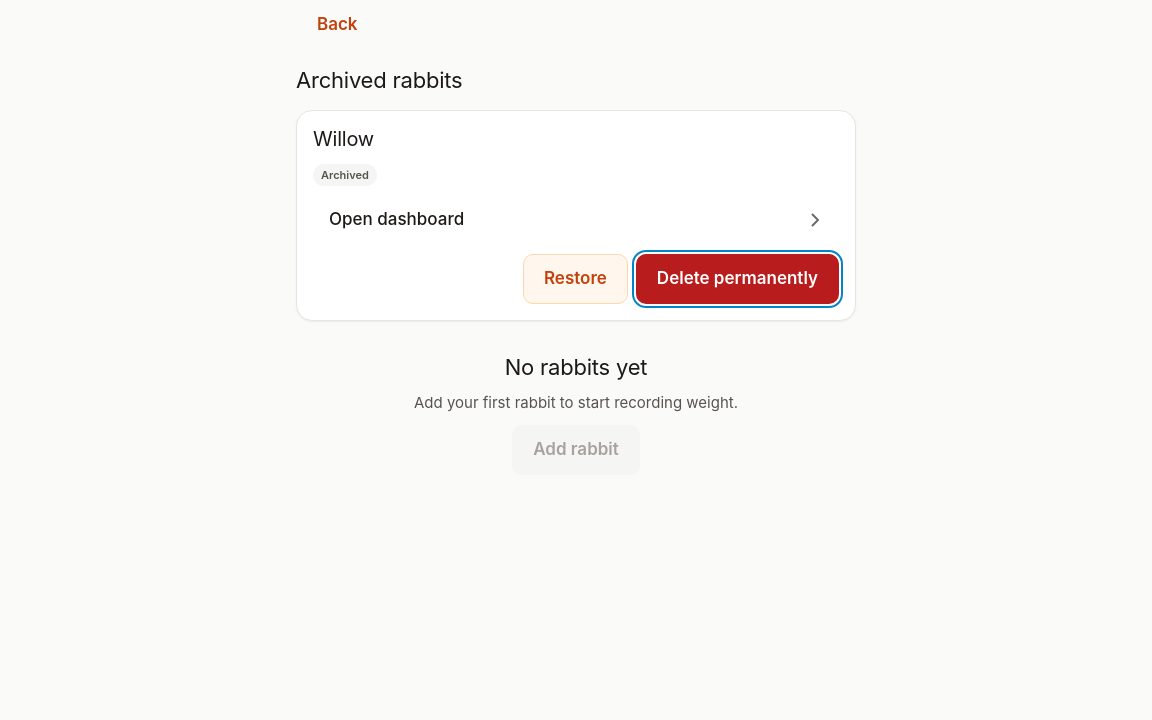
asks for the consequence before deleting anything, and cancelling deletes nothing
Expected: the heading "Willow" is shown, [313,127,374,151]
Click the button "Delete permanently". click: (737, 279)
box: [636,254,839,304]
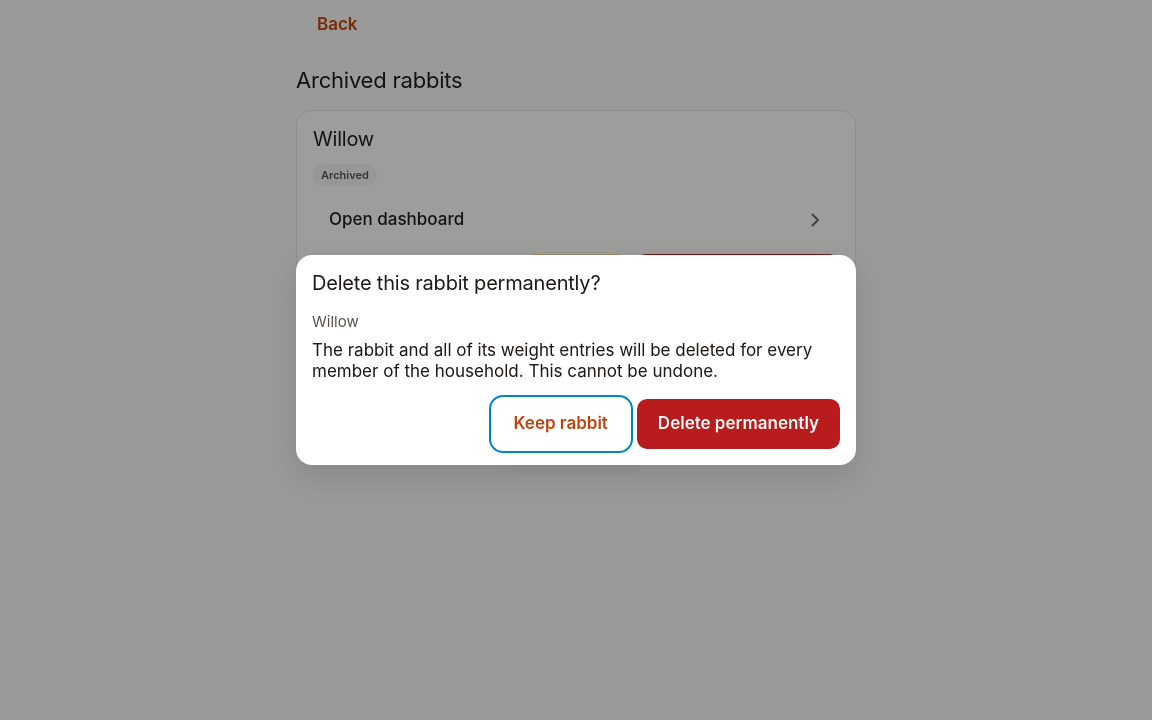
Result: the heading "Delete this rabbit permanently?" is shown at [312,270,600,294]
Result: the text "The rabbit and all of its weight entries will be deleted for every member of the household. This cannot be undone." is shown at [312,340,812,382]
Click the button "Keep rabbit". click: (561, 424)
box: [493,400,629,450]
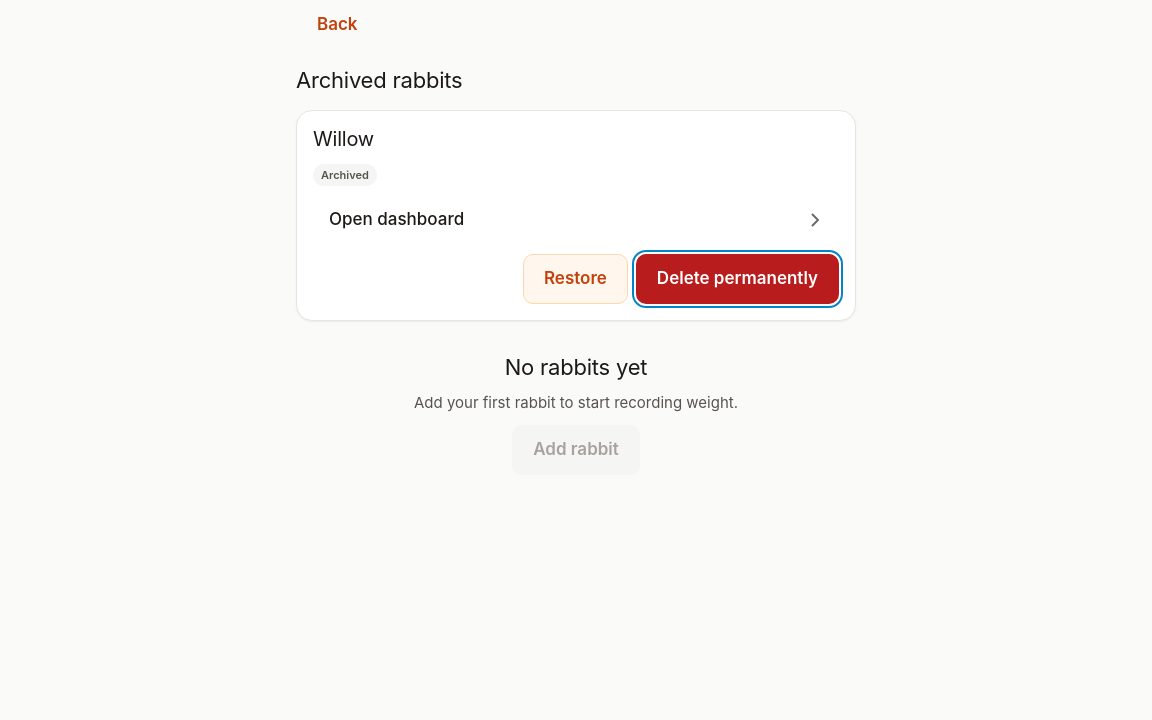
Expected: the heading "Willow" is shown, [313,127,374,151]
Result: the dialog is gone
